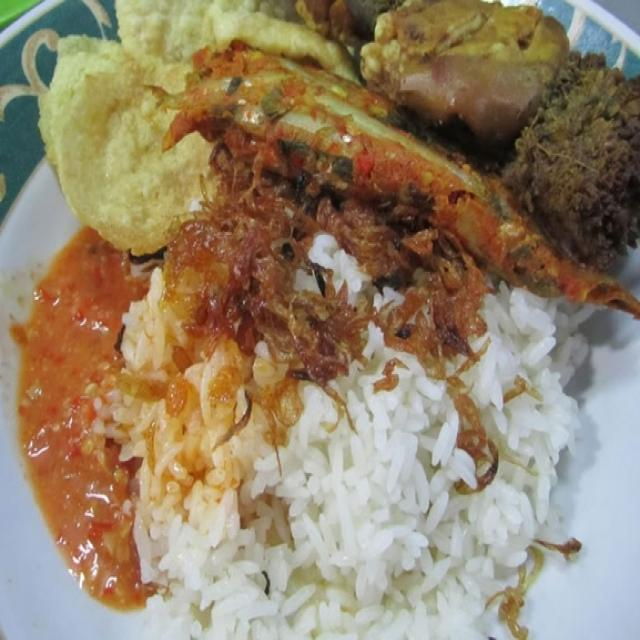米饭主食: (20, 8, 633, 626)
